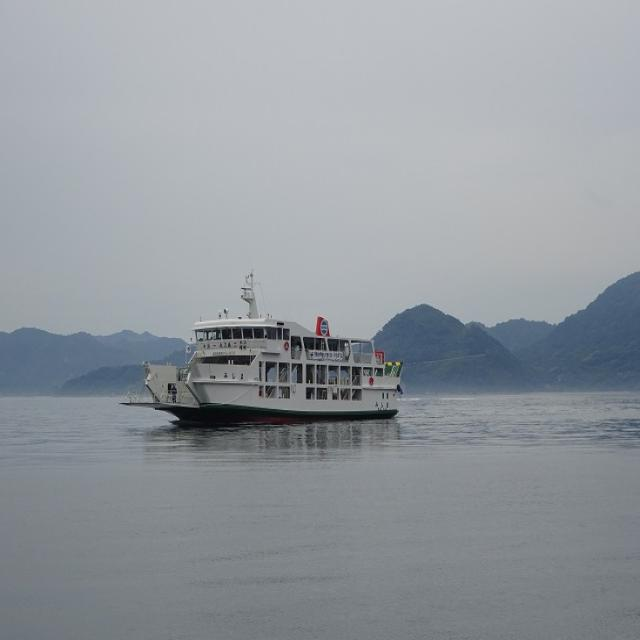houseboat: (120, 288, 444, 413)
